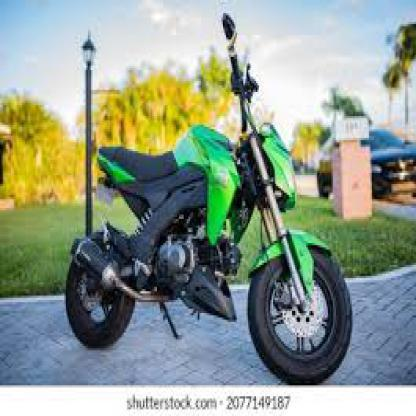Motorcycle: (61, 9, 355, 386)
